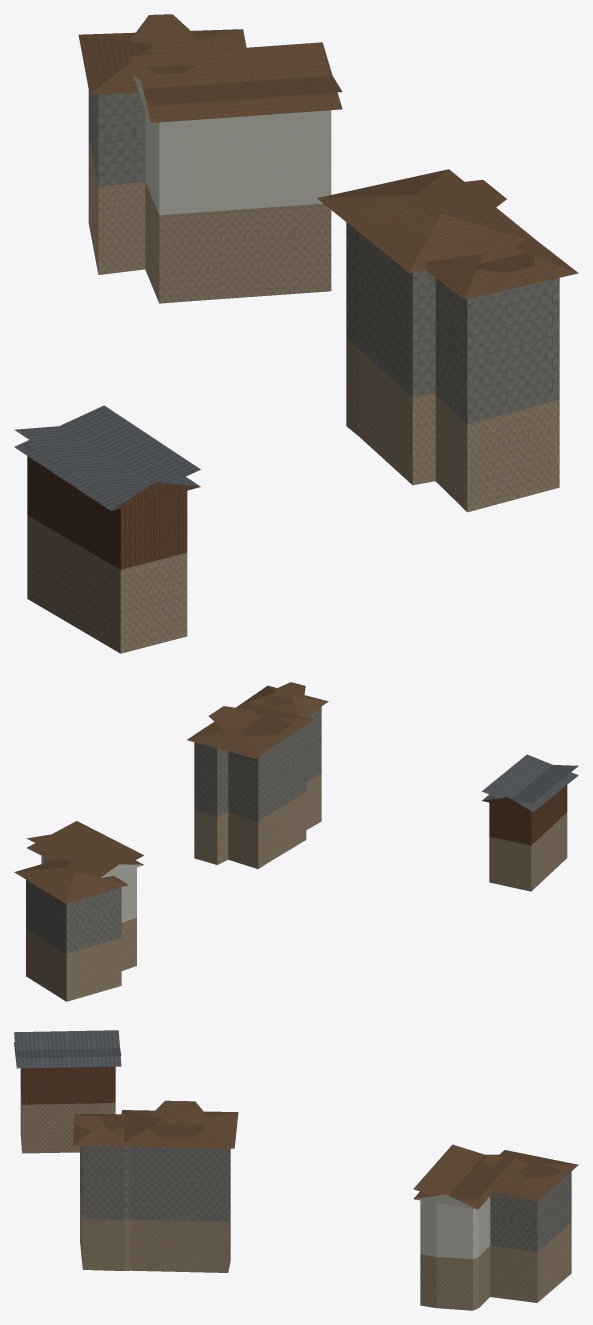
Rendered from bld_c32_46_239.gltf.
3 renders of one model, top to bottom at view 1: azimuth 30°, elevation 25°; view 2: azimuth 150°, elevation 25°; view 3: azimuth 270°, elevation 25°, orthographic. The views are drawn at different scales.
Parts seen in each view (by area): view 1: bld_c32_46_239; view 2: bld_c32_46_239; view 3: bld_c32_46_239.
Part boxes in pixels (x1,y1,x2,y2): bld_c32_46_239: (14,14,578,653); bld_c32_46_239: (14,682,578,1001); bld_c32_46_239: (14,1030,578,1310).
Bounding box in the file's own units: 37.36 × 15.4 × 50.88.
Materials: 8 (8 with a texture image).
